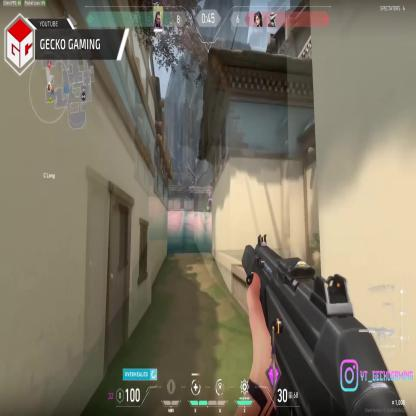enemy: (207, 186, 213, 212)
enemy_head: (209, 187, 211, 192)
